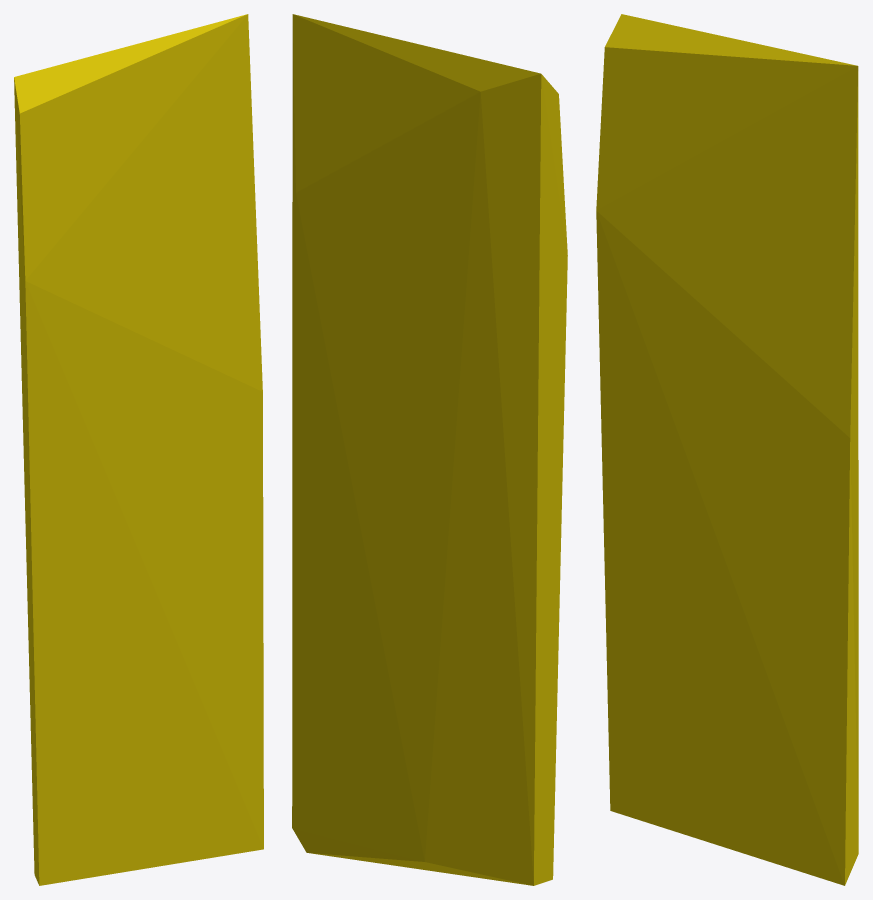
The model's file is waste_bin_convex_piece_001.obj.
3 views of the same model, side by side, from view 1: azimuth 30°, elevation 25°; view 2: azimuth 150°, elevation 25°; view 3: azimuth 330°, elevation 25° (orthographic). The views are drawn at different scales.
Size of the model in its own units: 0.1218 by 0.3808 by 0.0201.
